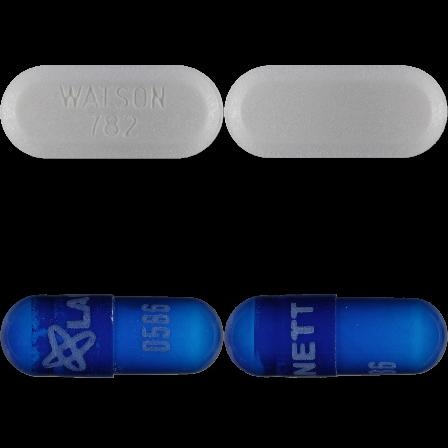50090-0121: (0, 0, 224, 224)
